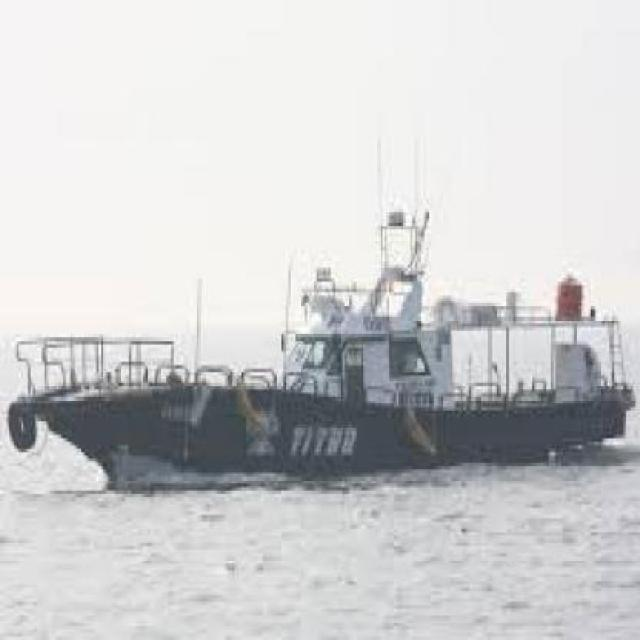fish-b: (1, 194, 639, 516)
